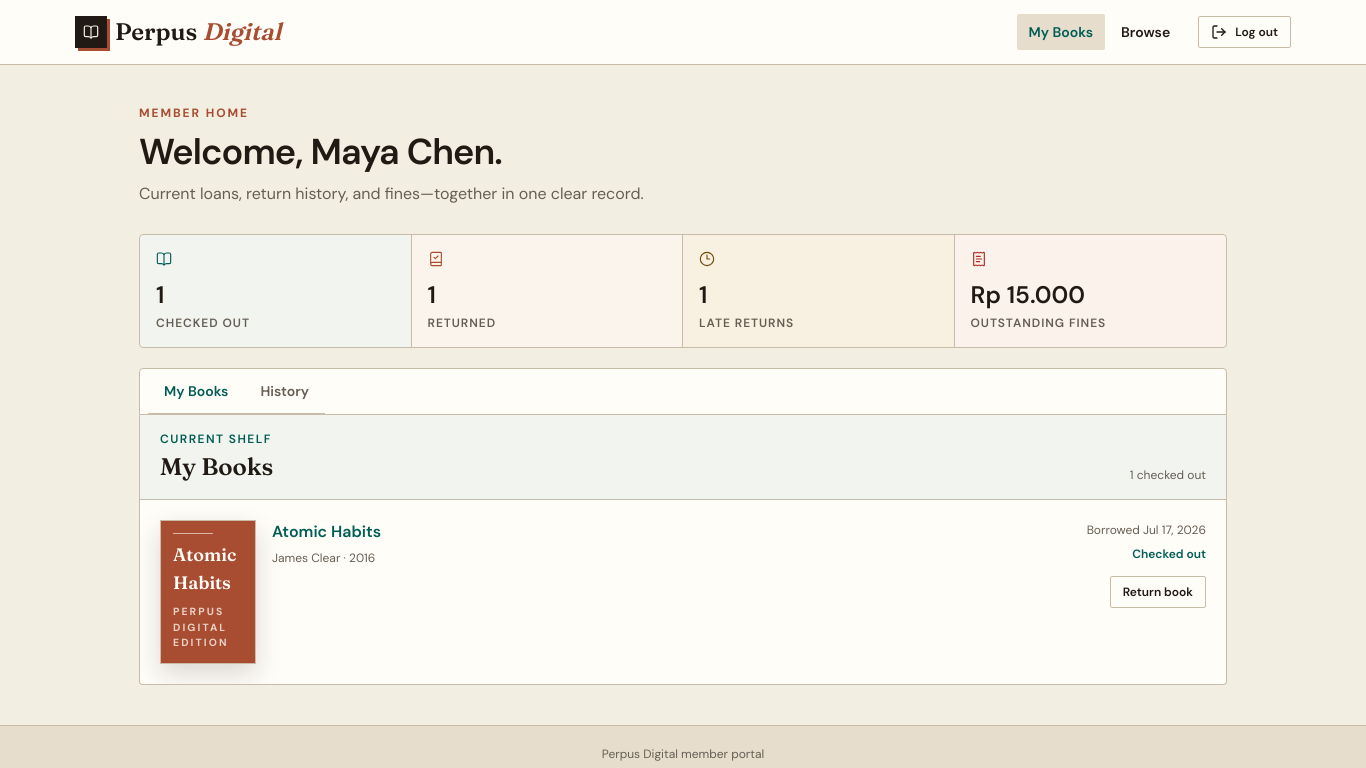
Test: DashboardClient › switches tabs instantly and records the selection in browser history
The image size is (1366, 768).
Step 1. Click the tab "History" → click(285, 392), box [244, 369, 325, 415]
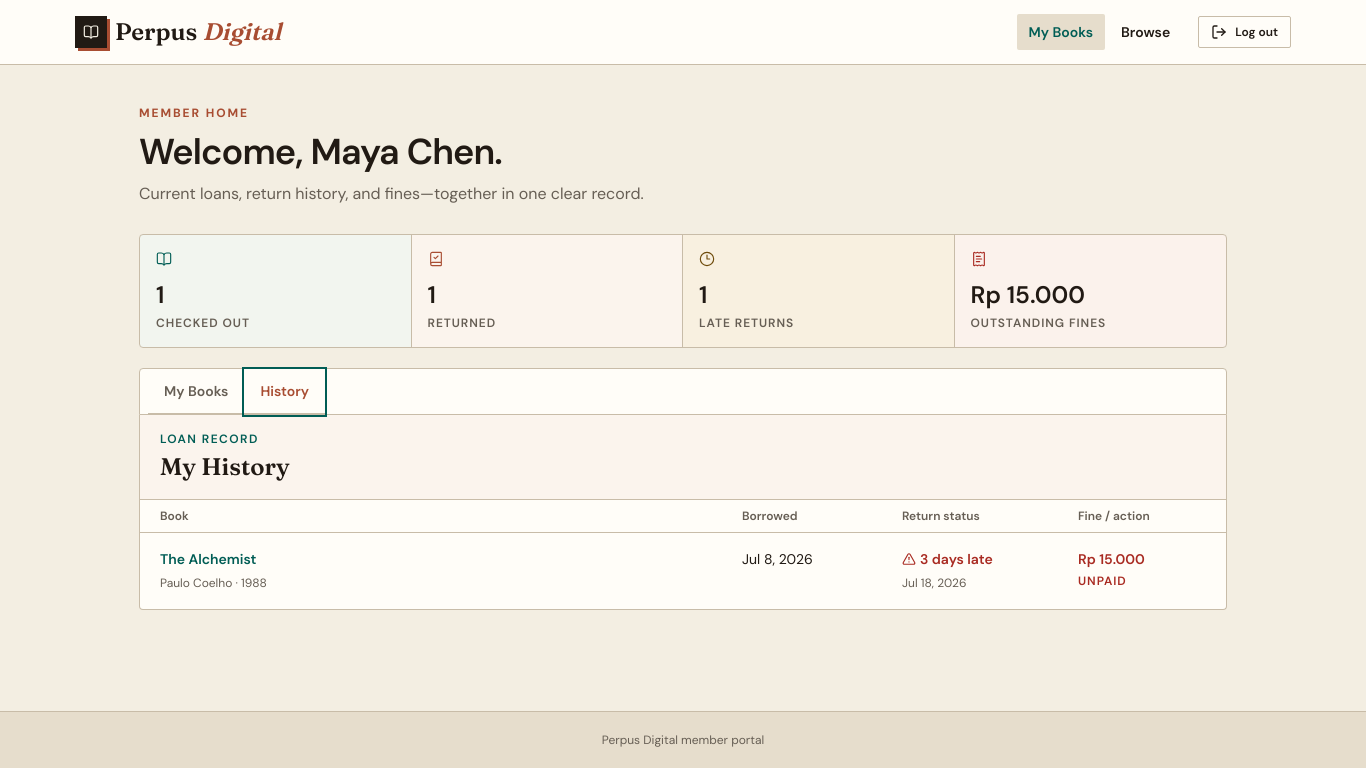
Check: the heading "My History" is shown, box [160, 452, 290, 481]
Check: the link "The Alchemist" is shown, box [160, 550, 256, 568]
Check: the text "3 days late" is shown, box [902, 549, 993, 569]
